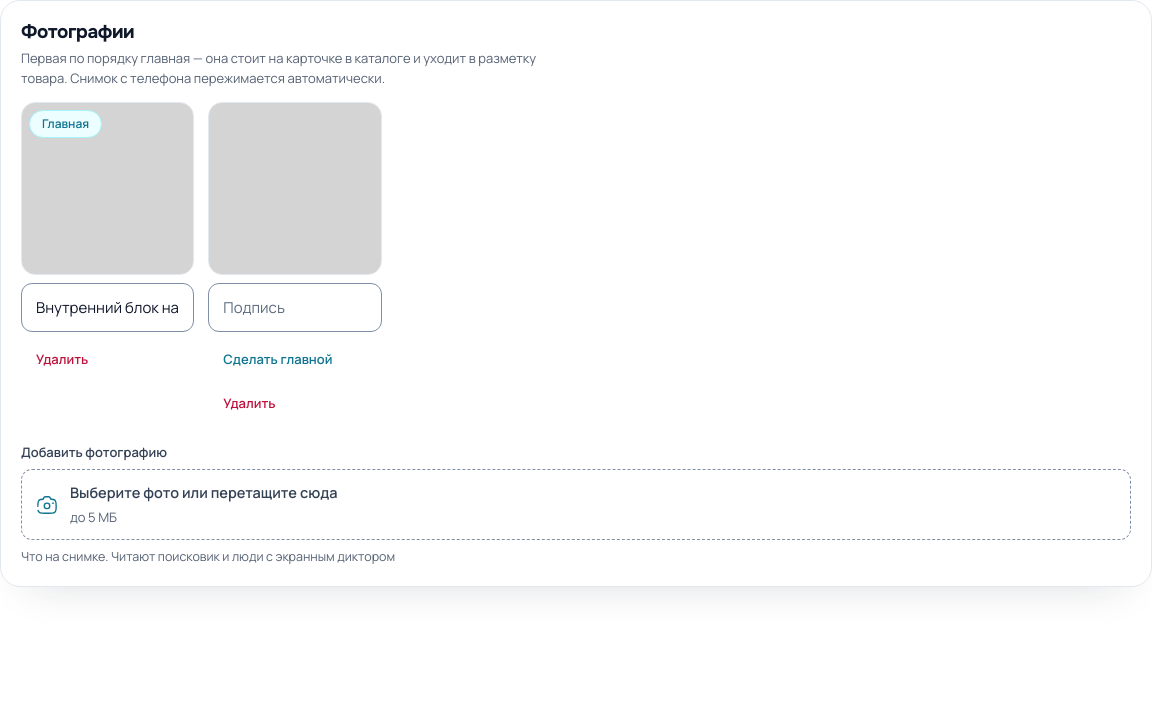
Test: Фотографии модели › отказ сервера объясняется и страница не перечитывается
Click the 1st button "Удалить" at x=62, y=360, box 21,340 -> 103,380
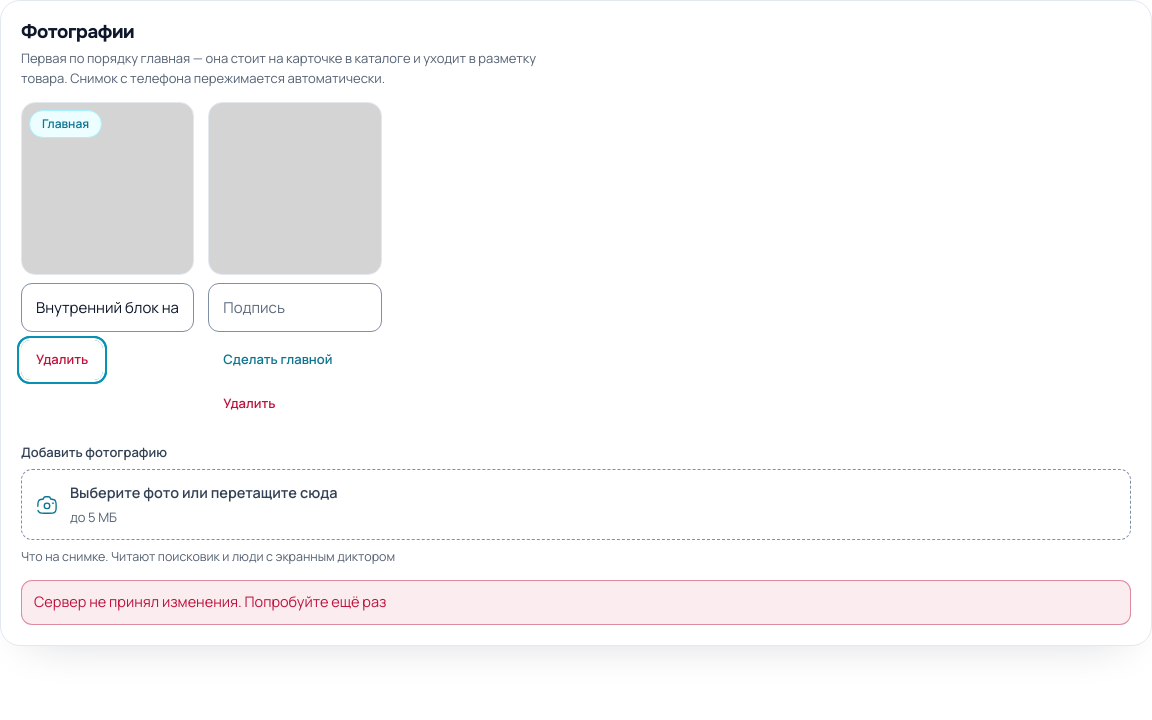
Check: the message "Сервер не принял изменения. Попробуйте ещё раз" is shown, box 21,580 -> 1131,625
